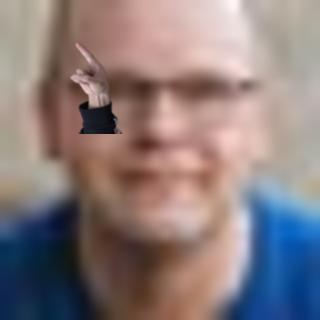IRRITATED: (68, 41, 109, 96)
